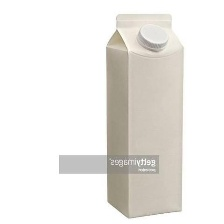carton: (99, 9, 185, 220)
